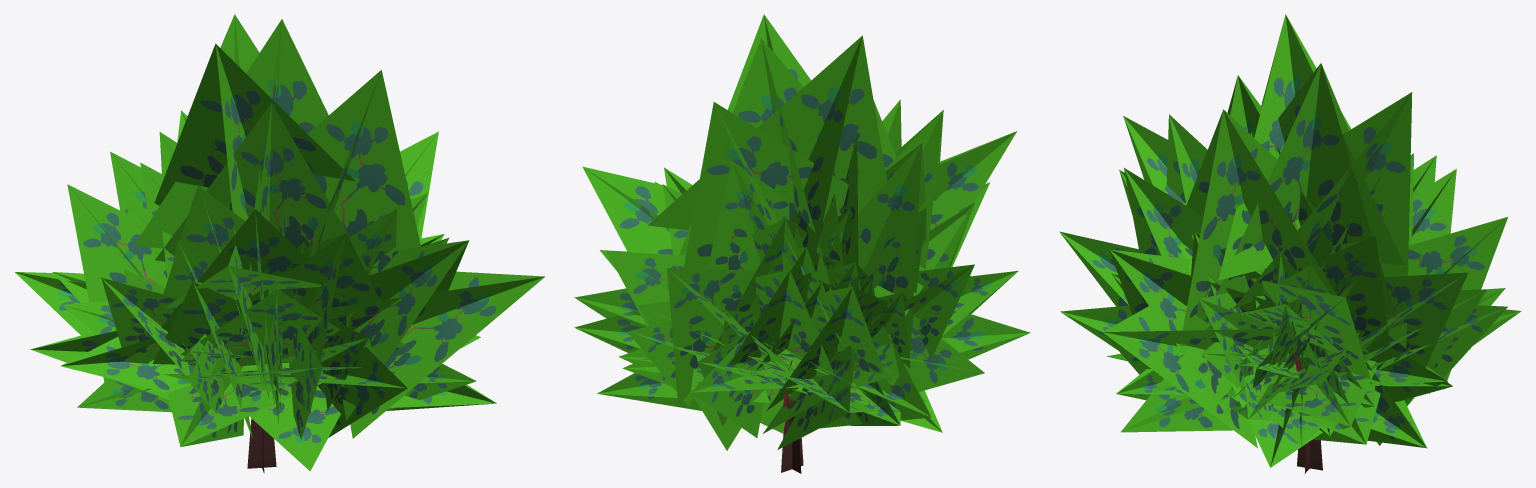
The model's file is Bush_9B.fbx.
The picture shows the model from 3 angles, left to right: view 1: azimuth 30°, elevation 25°; view 2: azimuth 150°, elevation 25°; view 3: azimuth 270°, elevation 25°; orthographic projection. The views are drawn at different scales.
Visible parts, largest first — view 1: Bush_9B; view 2: Bush_9B; view 3: Bush_9B.
Boxes of the visible parts, x1,y1,x2,y2 form: Bush_9B: [15, 14, 545, 473]; Bush_9B: [574, 14, 1030, 473]; Bush_9B: [1059, 14, 1521, 473].
Bounding box in the file's own units: 244 × 260 × 256.
